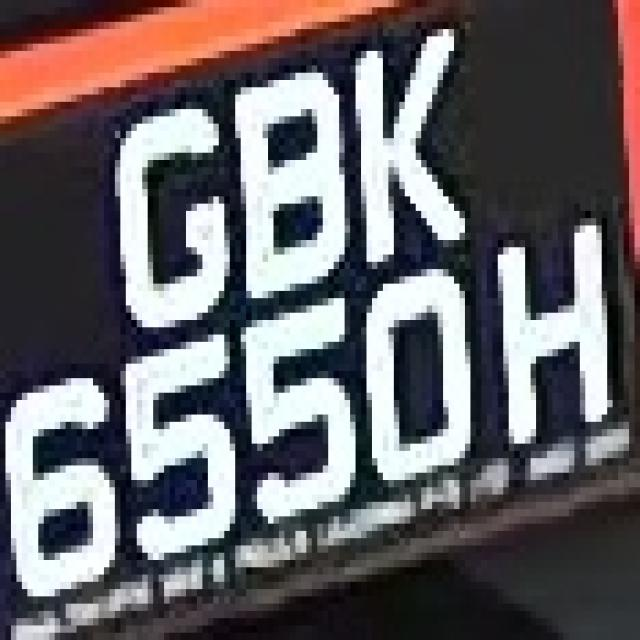0: (350, 240, 471, 502)
5: (115, 327, 252, 589), (230, 284, 361, 538)
6: (0, 335, 126, 618)
B: (208, 66, 361, 306)
G: (88, 80, 246, 349)
H: (476, 225, 623, 473)
K: (334, 22, 471, 276)
